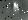person: (15, 2, 20, 15)
